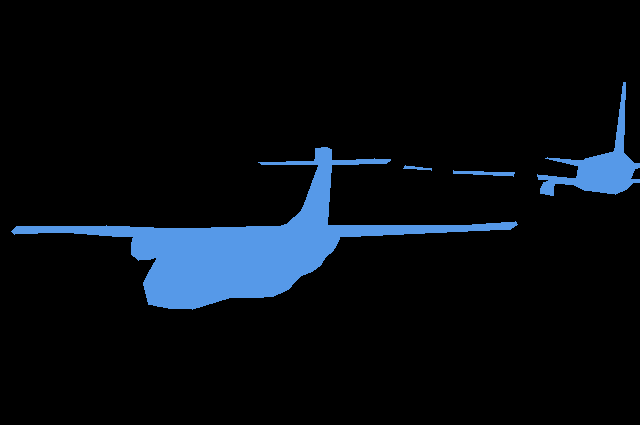Airplane: (11, 147, 518, 310), (403, 82, 640, 196)
